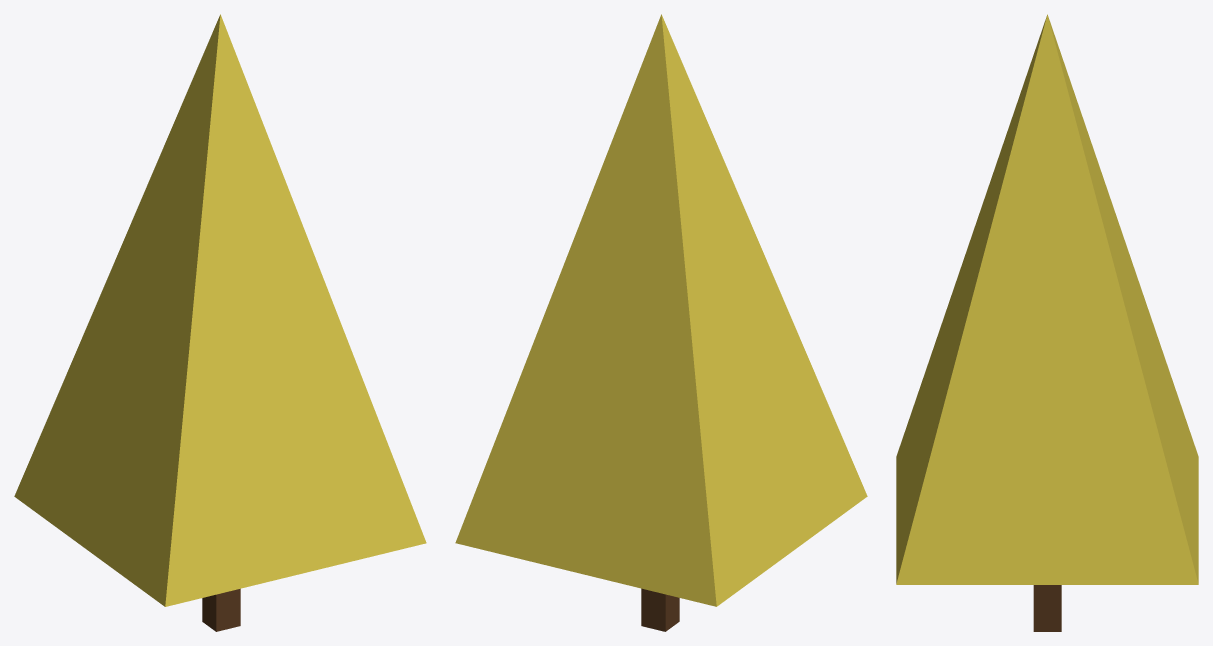
The model's file is YellowTree_01.fbx.
3 renders of one model, left to right at view 1: azimuth 30°, elevation 25°; view 2: azimuth 150°, elevation 25°; view 3: azimuth 270°, elevation 25°, orthographic.
Parts seen in each view (by area): view 1: YellowLeaves, Treewood_02; view 2: YellowLeaves, Treewood_02; view 3: YellowLeaves, Treewood_02.
Boxes of the visible parts, x1,y1,x2,y2 form: YellowLeaves: (14,14,426,606); Treewood_02: (202,588,240,631); YellowLeaves: (455,14,867,606); Treewood_02: (641,588,679,631); YellowLeaves: (896,14,1198,584); Treewood_02: (1033,585,1061,631).
Size of the model in its own units: 218 by 218 by 485.
